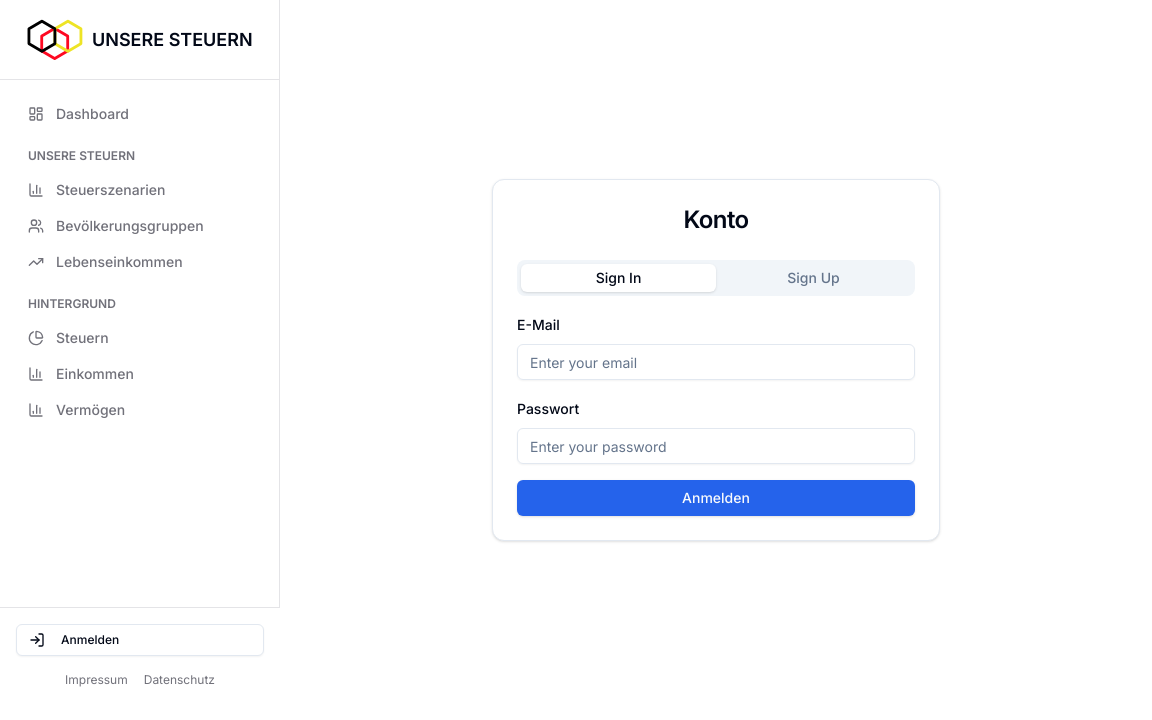
Test case: Authentication › should allow switching between sign in and sign up tabs
// Click sign up tab
Click the tab "Sign Up": (814, 278) 716,264 -> 911,292
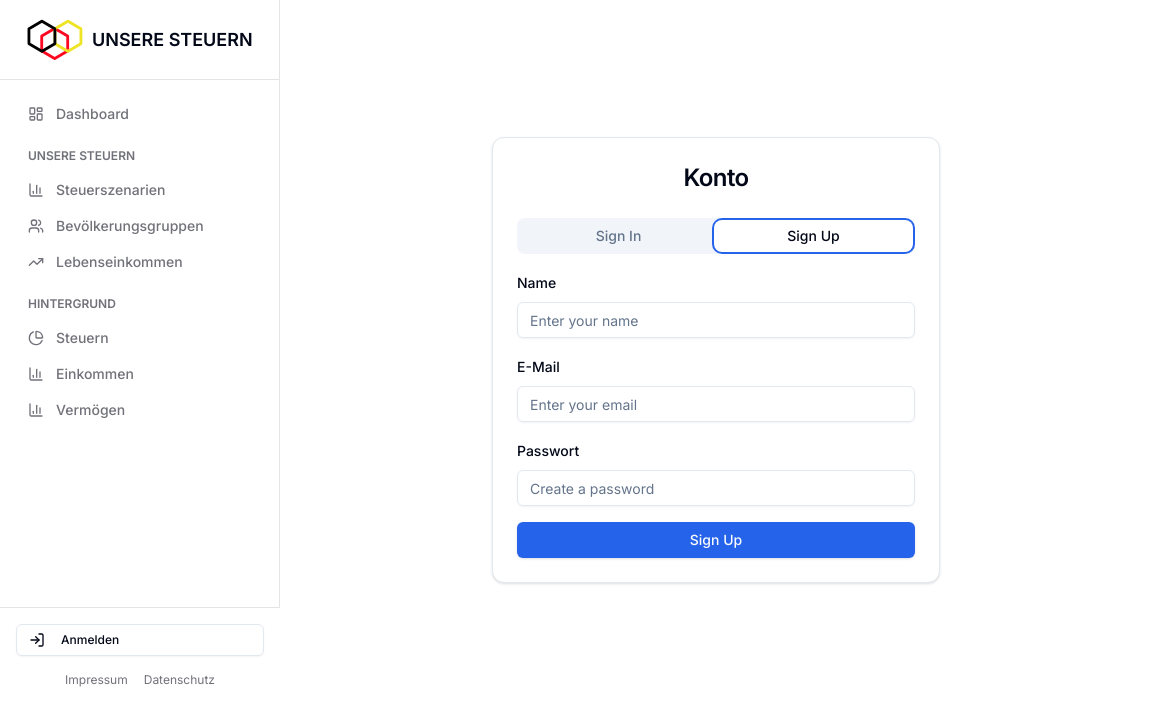
Result: the field with id "signup-name" is shown at 517,302 -> 915,338
Result: the field with id "signup-email" is shown at 517,386 -> 915,422
Result: the password field with id "signup-password" is shown at 517,470 -> 915,506
// Switch back to sign in
Click the tab "Sign In": (619, 236) 521,222 -> 716,250
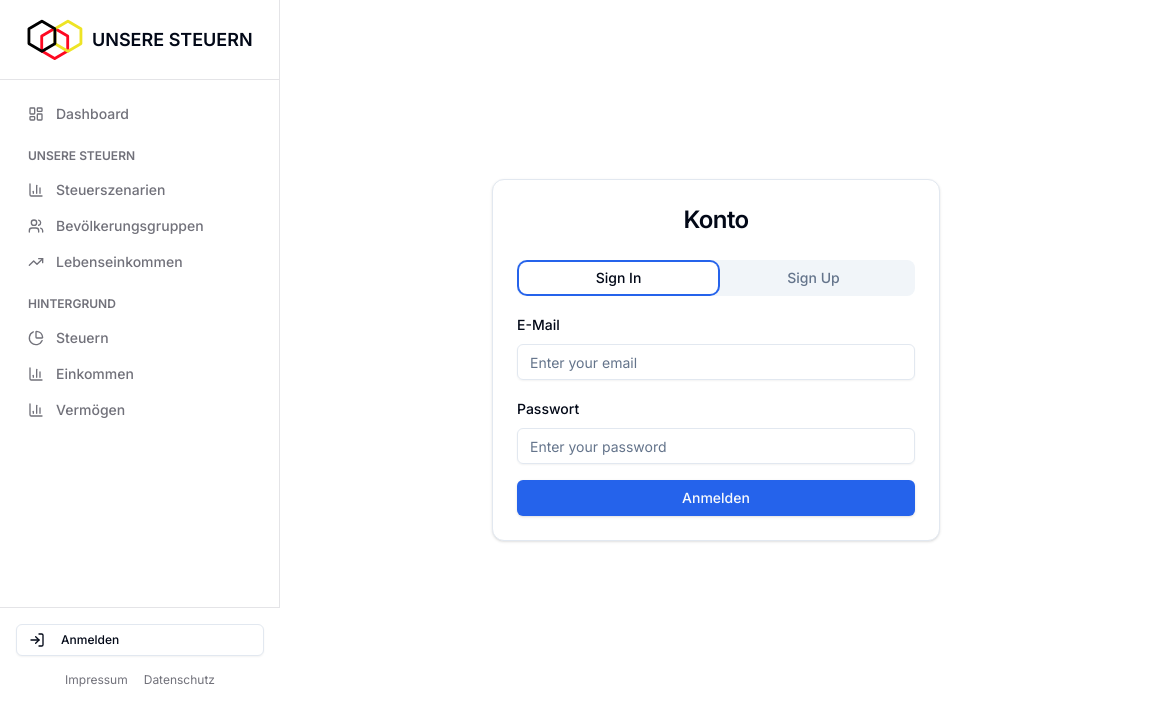
Result: the field with id "signin-email" is shown at 517,344 -> 915,380
Result: the password field with id "signin-password" is shown at 517,428 -> 915,464
